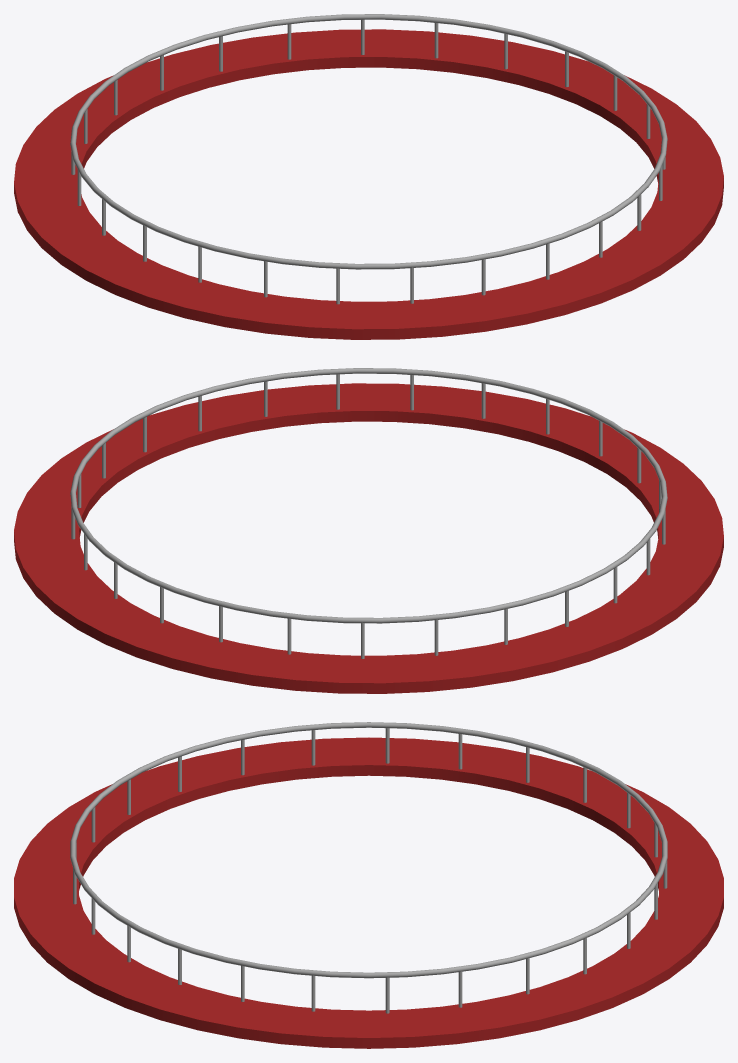
Rendered from Simple Balcony.fbx.
3 views of the same model, one above another, from view 1: azimuth 30°, elevation 25°; view 2: azimuth 150°, elevation 25°; view 3: azimuth 270°, elevation 25° (orthographic).
Visible parts, largest first — view 1: pPipe1, pTorus1; view 2: pPipe1, pTorus1; view 3: pPipe1, pTorus1.
Part boxes in pixels (x1,y1,x2,y2): pPipe1: [14, 29, 723, 339]; pTorus1: [70, 14, 667, 269]; pPipe1: [14, 383, 723, 693]; pTorus1: [70, 368, 667, 623]; pPipe1: [14, 737, 723, 1048]; pTorus1: [70, 722, 667, 978].
Size of the model in its own units: 30 by 2.37 by 29.94.
